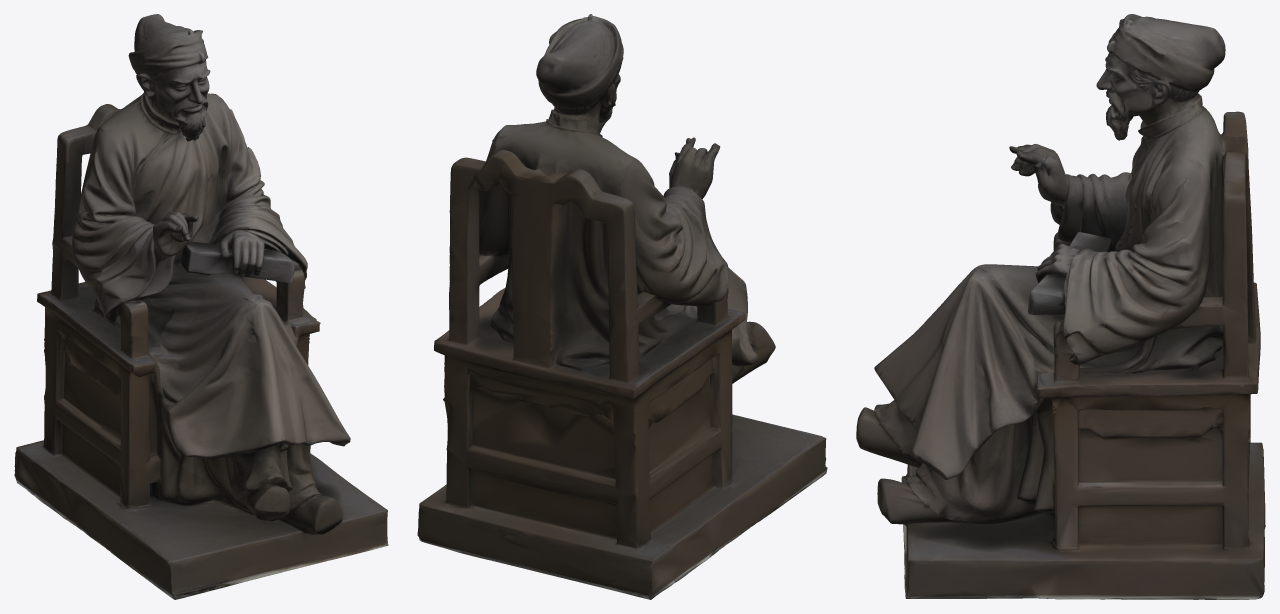
File: le-quy-don.glb
3 renders of one model, left to right at view 1: azimuth 30°, elevation 25°; view 2: azimuth 150°, elevation 25°; view 3: azimuth 270°, elevation 25°, orthographic. The views are drawn at different scales.
Parts seen in each view (by area): view 1: node_0; view 2: node_0; view 3: node_0.
Part boxes in pixels (left/top/right/bottom): node_0: left=14, top=14, right=388, bottom=599; node_0: left=417, top=14, right=827, bottom=599; node_0: left=856, top=14, right=1265, bottom=599.
Bounding box in the file's own units: 0.4551 × 0.9223 × 0.6499.
Materials: 1 (1 with a texture image).
